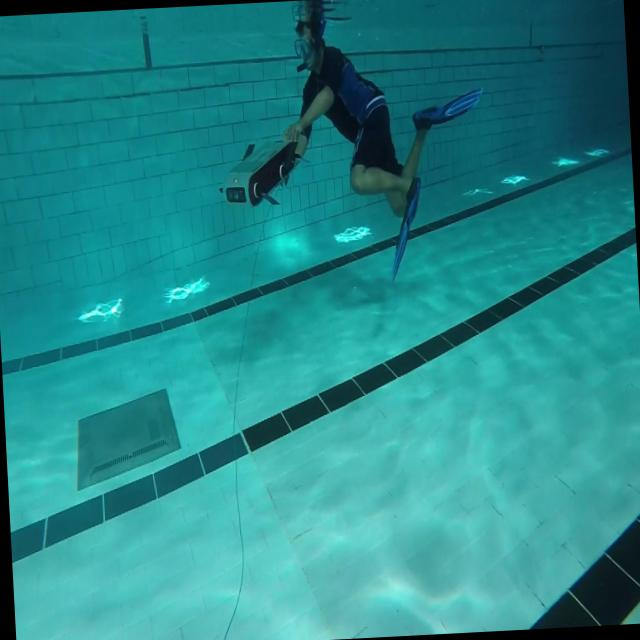human: (271, 0, 492, 286)
